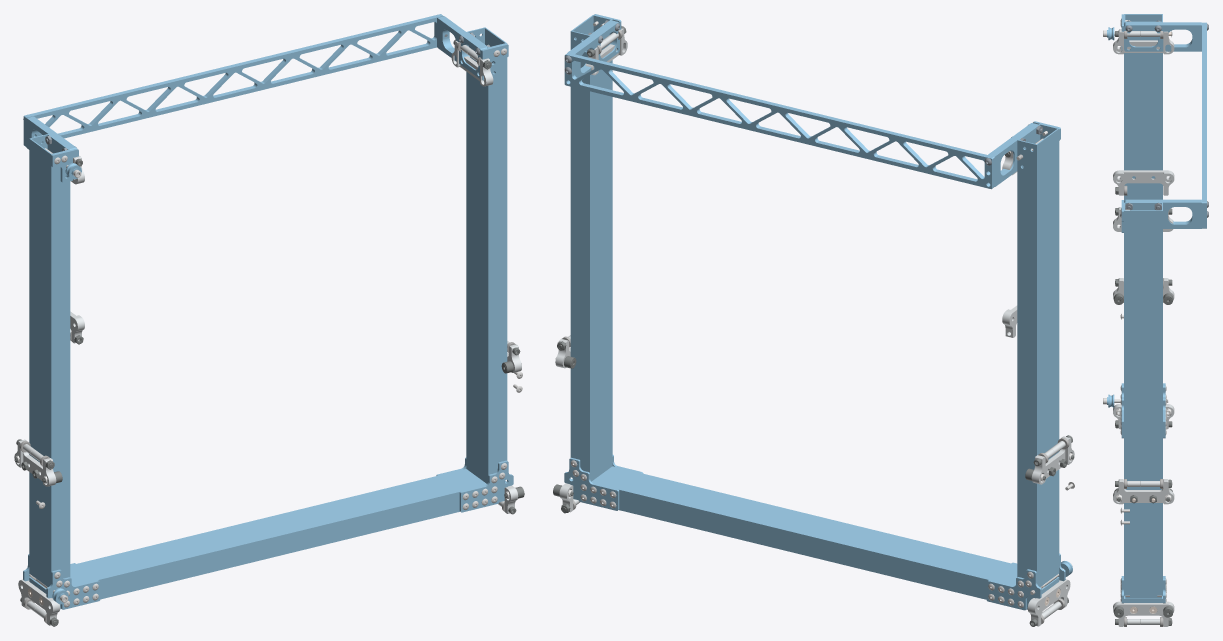
3 renders of one model, left to right at view 1: azimuth 30°, elevation 25°; view 2: azimuth 150°, elevation 25°; view 3: azimuth 270°, elevation 25°, orthographic. The views are drawn at different scales.
Visible parts, largest first — view 1: 4450_2024_P_0017 (×2), 4450_2024_P_039, 4450_2024_P_089, 4450_2024_P_043 (×2), 4450_2024_P_088, 2x1 UniPlate V0.1 alt screw; view 2: 4450_2024_P_0017 (×2), 4450_2024_P_039, 4450_2024_P_089, 4450_2024_P_043 (×2), 4450_2024_P_088 (×2), 2x1 UniPlate V0.1 alt screw (×2); view 3: 4450_2024_P_0017 (×2), 2x1 UniPlate V0.1 alt screw (×7), 4450_2024_P_088 (×2), 4450_2024_P_089.
Part boxes in pixels (box(x1,y1,x2,y2)): 4450_2024_P_0017 (×2): box(29, 27, 507, 609); 4450_2024_P_039: box(70, 469, 486, 599); 4450_2024_P_089: box(23, 14, 443, 146); 4450_2024_P_043 (×2): box(46, 460, 513, 609); 4450_2024_P_088: box(437, 16, 487, 78); 2x1 UniPlate V0.1 alt screw: box(18, 579, 60, 625); 4450_2024_P_0017 (×2): box(570, 15, 1059, 609); 4450_2024_P_039: box(591, 466, 1017, 599); 4450_2024_P_089: box(564, 52, 994, 189); 4450_2024_P_043 (×2): box(564, 457, 1041, 610); 4450_2024_P_088 (×2): box(567, 20, 1038, 186); 2x1 UniPlate V0.1 alt screw (×2): box(1027, 436, 1074, 626); 4450_2024_P_0017 (×2): box(1124, 14, 1162, 602); 2x1 UniPlate V0.1 alt screw (×7): box(1113, 29, 1174, 626); 4450_2024_P_088 (×2): box(1124, 22, 1201, 228); 4450_2024_P_089: box(1202, 22, 1206, 228).
Bounding box in the file's own units: 0.6442 × 0.5978 × 0.138.
